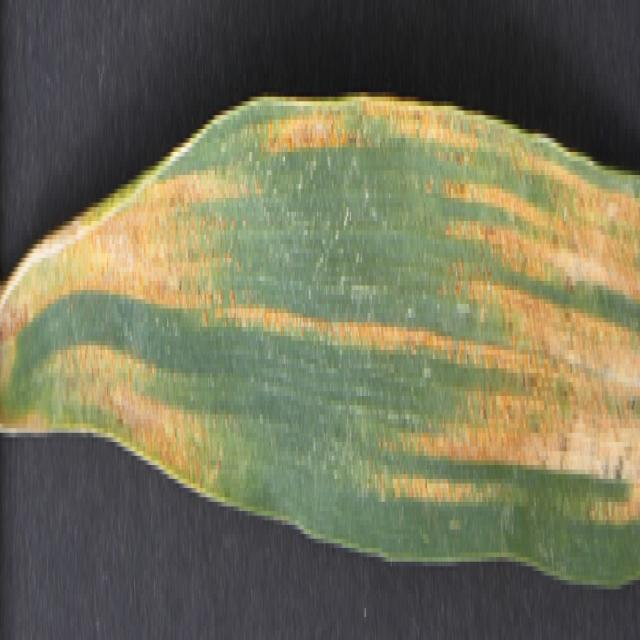leaf rust: (1, 106, 640, 516)
